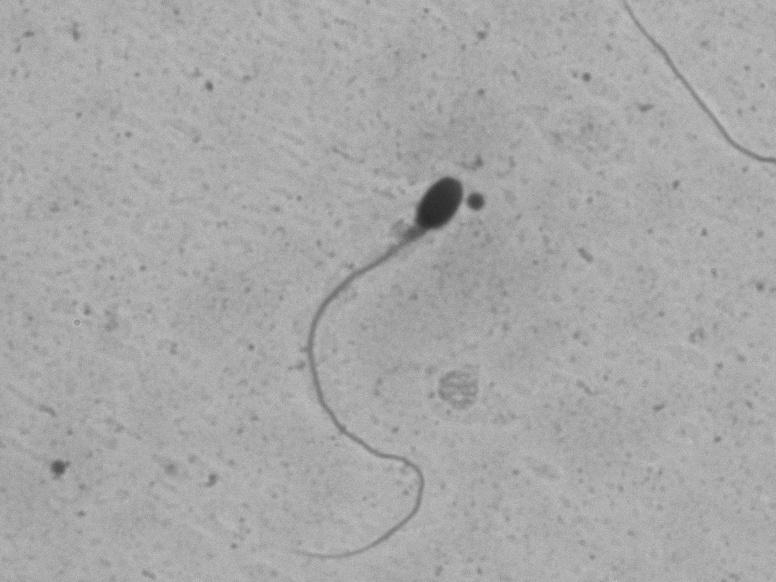Normal: (252, 147, 476, 571)
